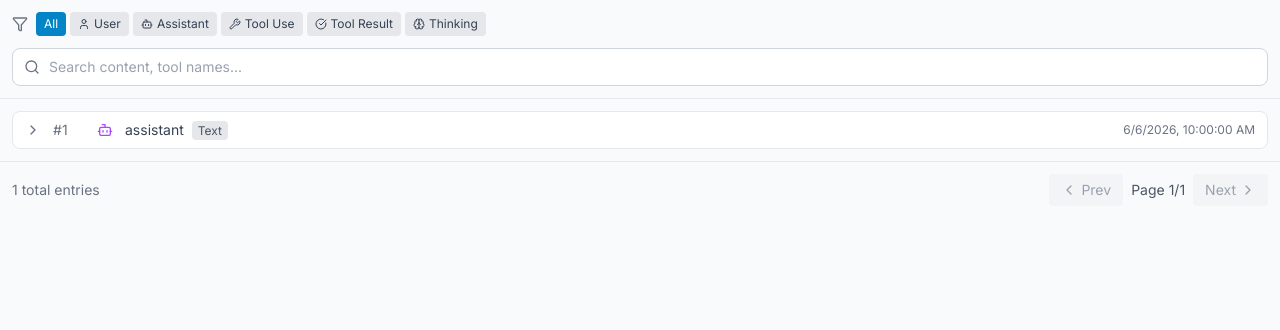
TranscriptViewer — JsonString expand toggle › previews a long string and hides the tail until expanded
Expand the transcript entry to reveal the JSON tree
What coordinates should you click on to do the following:
click the text "assistant"
I would click on:
 (176, 130)
Its box is [125,121,228,140].
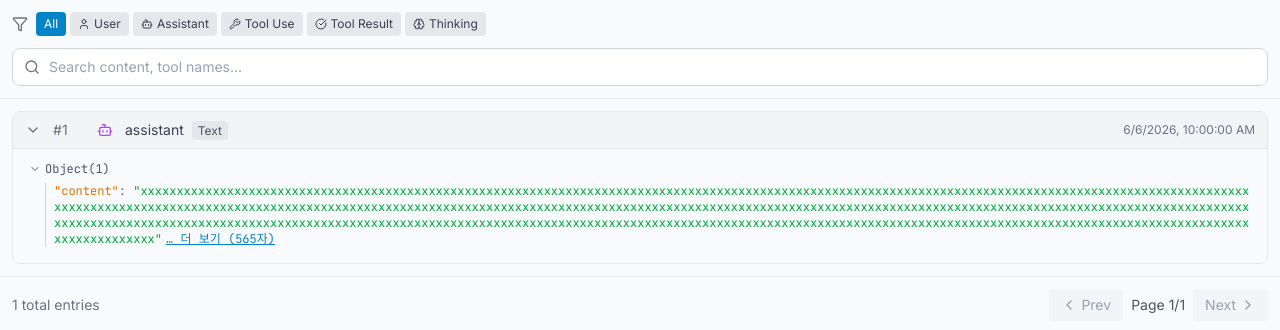
Check: the button with aria-label "전체 문자열 보기" is shown, box [166,231,275,247]
